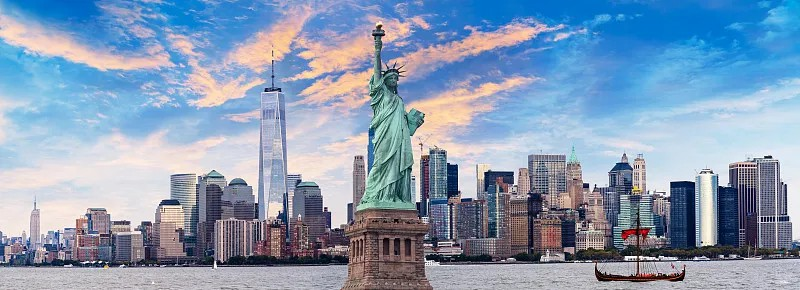SL: (341, 20, 431, 290)
